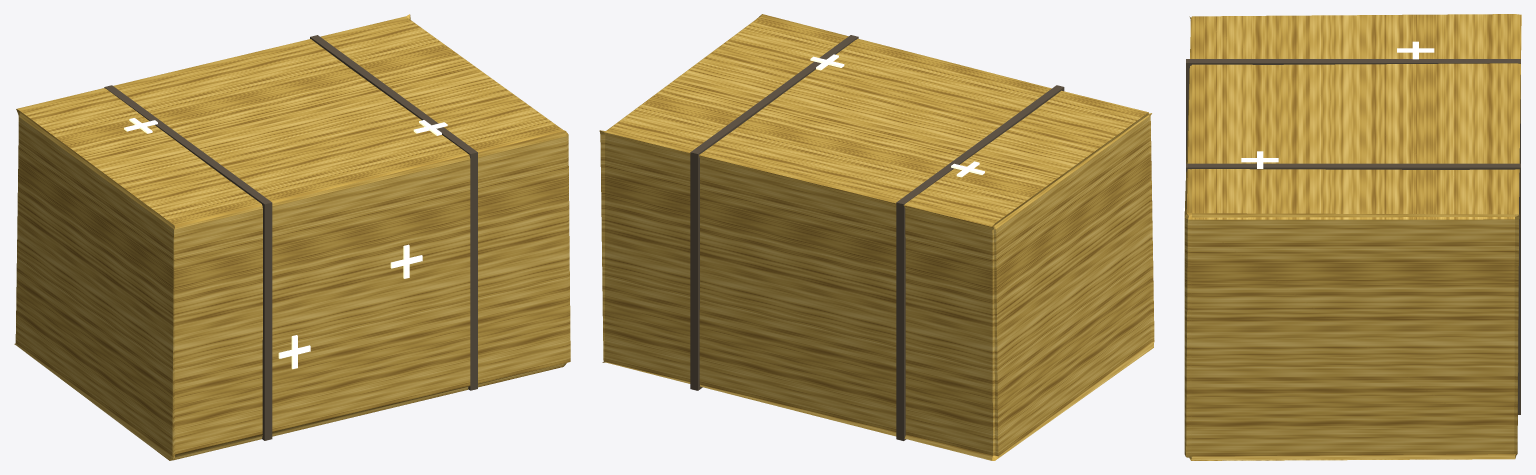
Rendered from golden_hay_bale.glb.
3 views of the same model, side by side, from view 1: azimuth 30°, elevation 25°; view 2: azimuth 150°, elevation 25°; view 3: azimuth 270°, elevation 25° (orthographic). The views are drawn at different scales.
Parts seen in each view (by area): view 1: GoldenHayBale; view 2: GoldenHayBale; view 3: GoldenHayBale.
Part boxes in pixels (x1=…): GoldenHayBale: x1=14, y1=14, x2=570, y2=460; GoldenHayBale: x1=599, y1=14, x2=1154, y2=460; GoldenHayBale: x1=1183, y1=14, x2=1521, y2=460.
Size of the model in its own units: 1.3 by 0.747 by 0.913.
3 materials, 1 textured.
